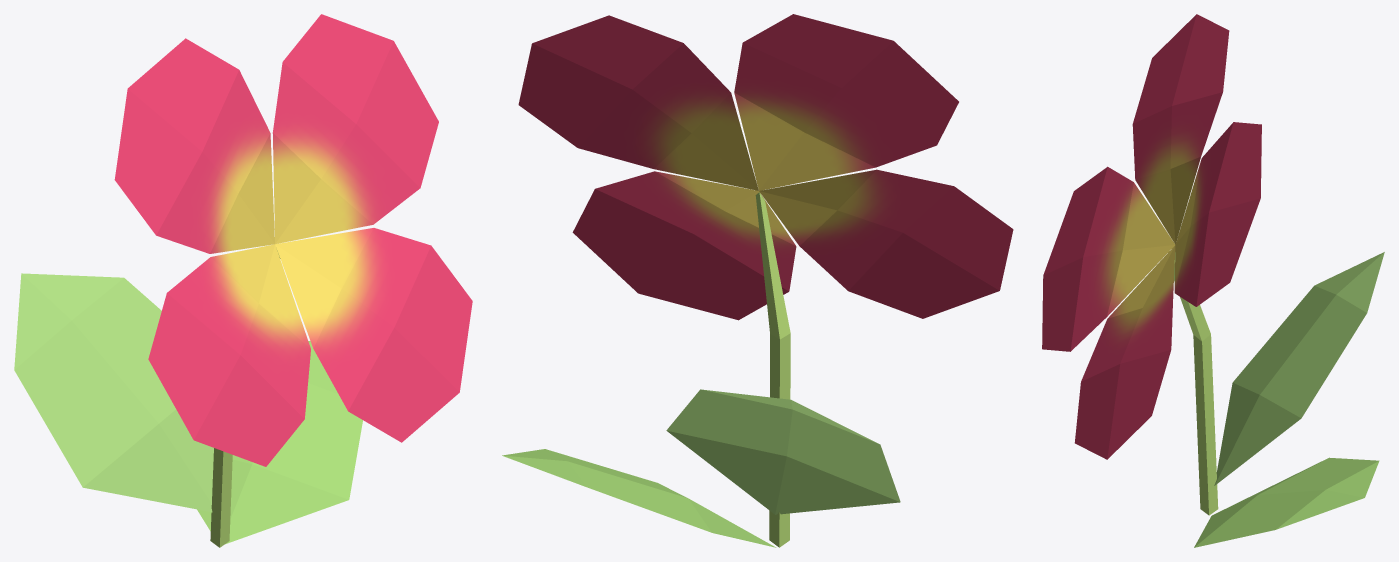
The model's file is Flower_c_OneS_12.fbx.
The picture shows the model from 3 angles, left to right: view 1: azimuth 30°, elevation 25°; view 2: azimuth 150°, elevation 25°; view 3: azimuth 270°, elevation 25°; orthographic projection. The views are drawn at different scales.
Visible parts, largest first — view 1: Flower_c_OneS_12; view 2: Flower_c_OneS_12; view 3: Flower_c_OneS_12.
Part boxes in pixels (<box>): Flower_c_OneS_12: <box>14,14,472,547</box>; Flower_c_OneS_12: <box>502,14,1013,547</box>; Flower_c_OneS_12: <box>1042,14,1384,547</box>.
Bounding box in the file's own units: 27.82 × 35.48 × 23.26.
